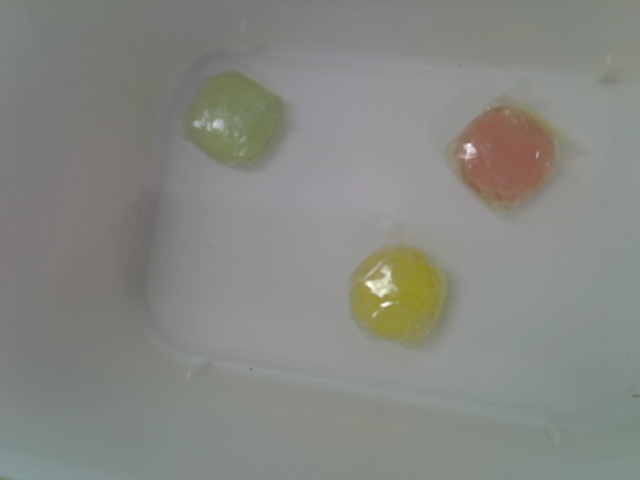씨앗: (455, 104, 560, 208), (183, 74, 287, 170), (349, 246, 448, 343)
